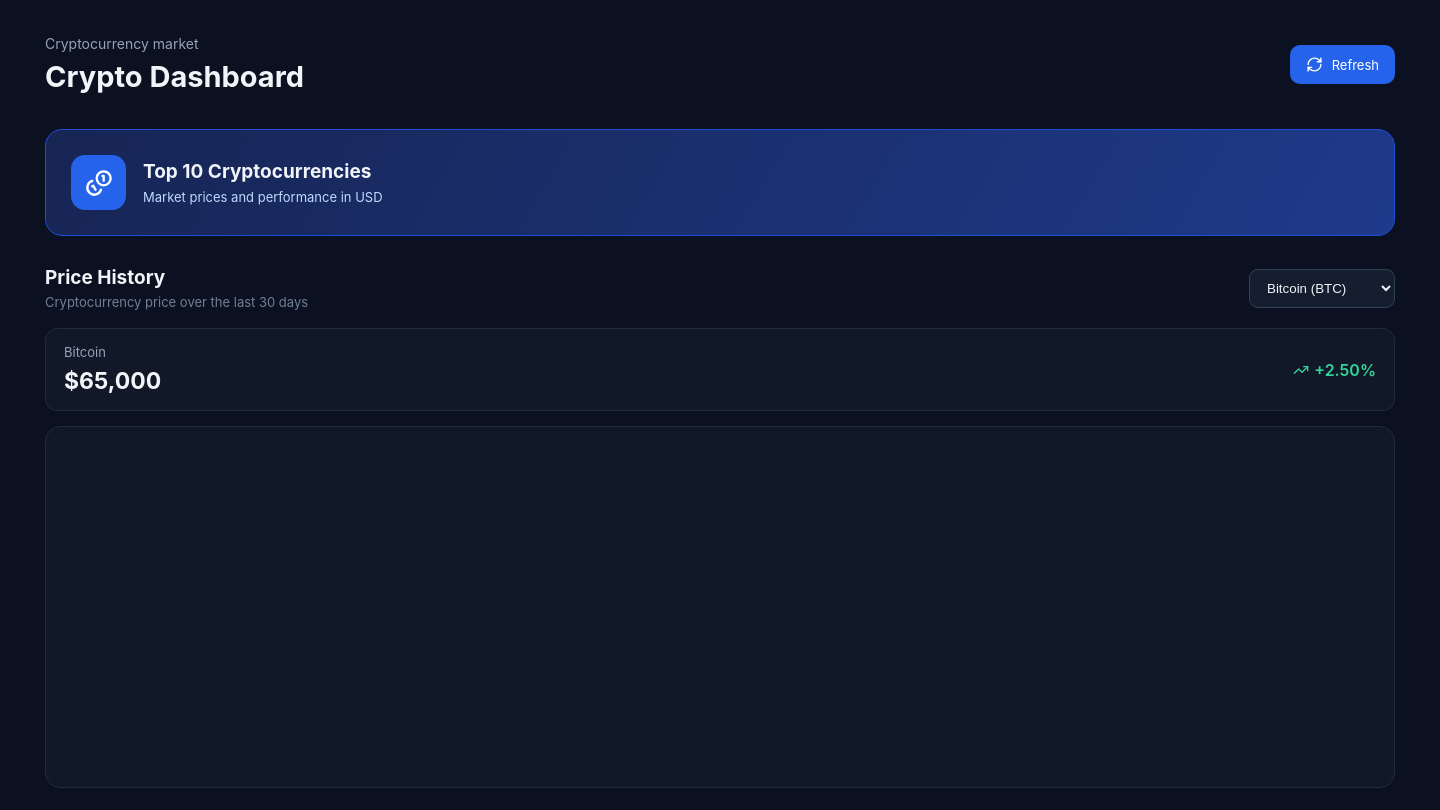
Test case: CryptoPage › changes selected cryptocurrency
This screenshot has width=1440, height=810.
Select "Ethereum (ETH)" in the dropdown: (1322, 288) [1249, 268, 1395, 308]
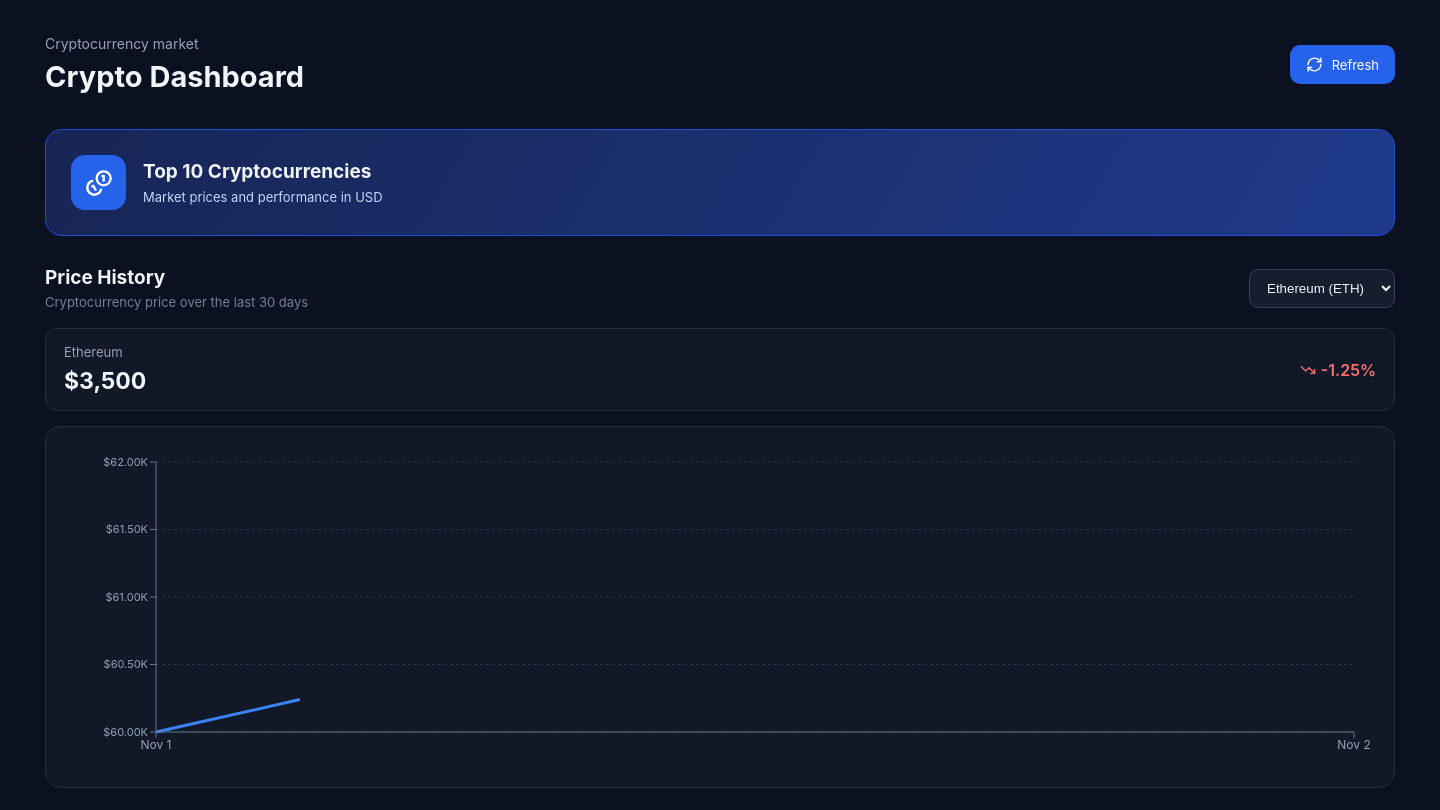
Result: the text "Ethereum" is shown at [64, 344, 123, 360]
